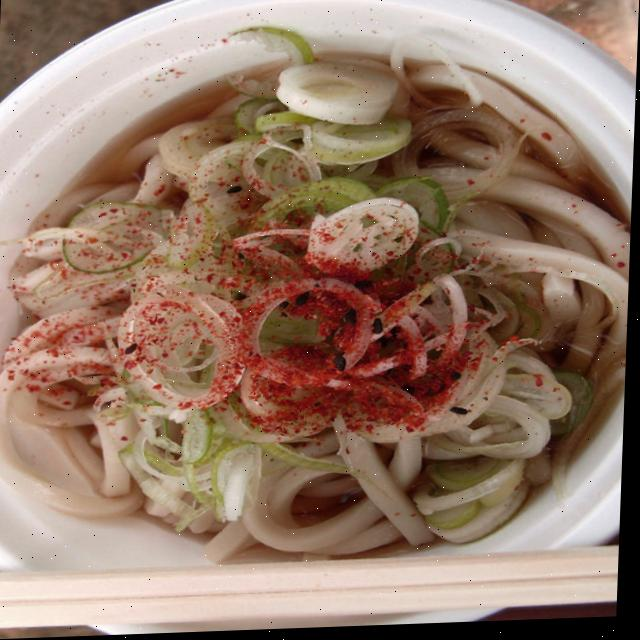面条主食: (0, 0, 640, 599)
